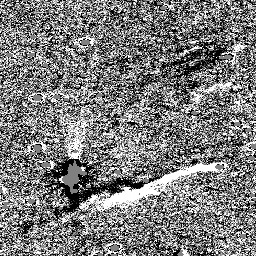LE: (91, 176, 163, 203)
